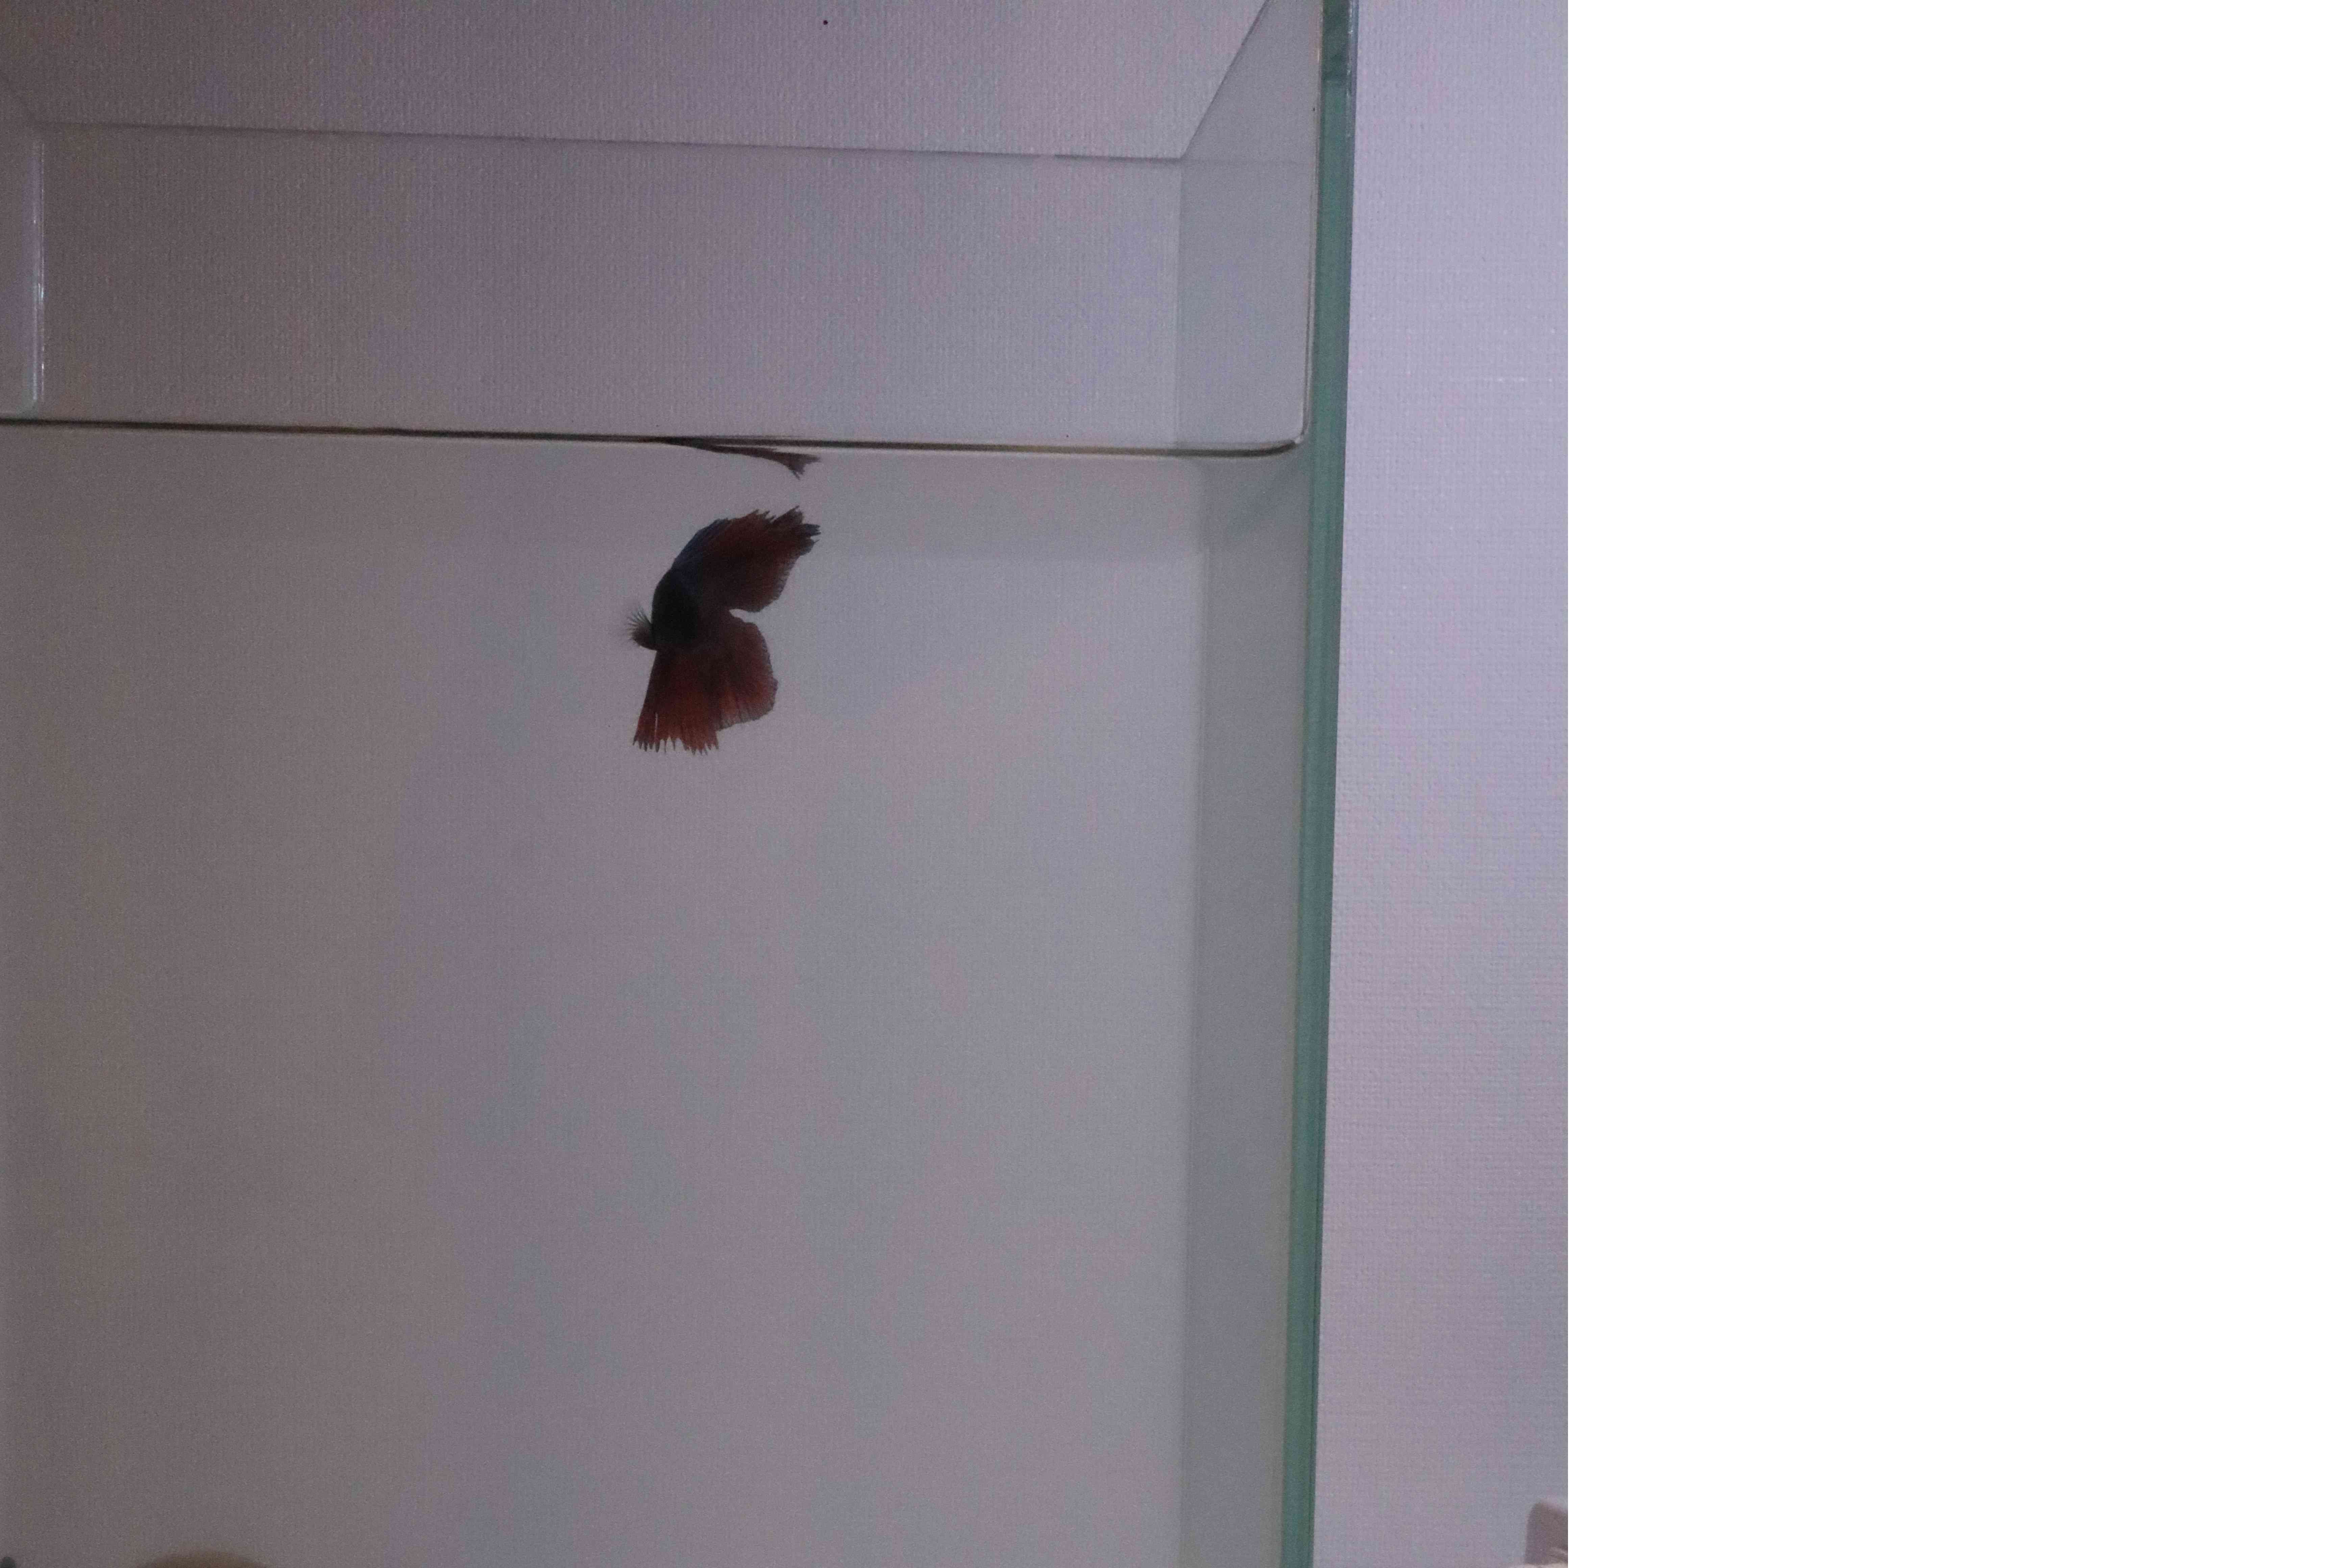fish: (606, 506, 845, 752)
